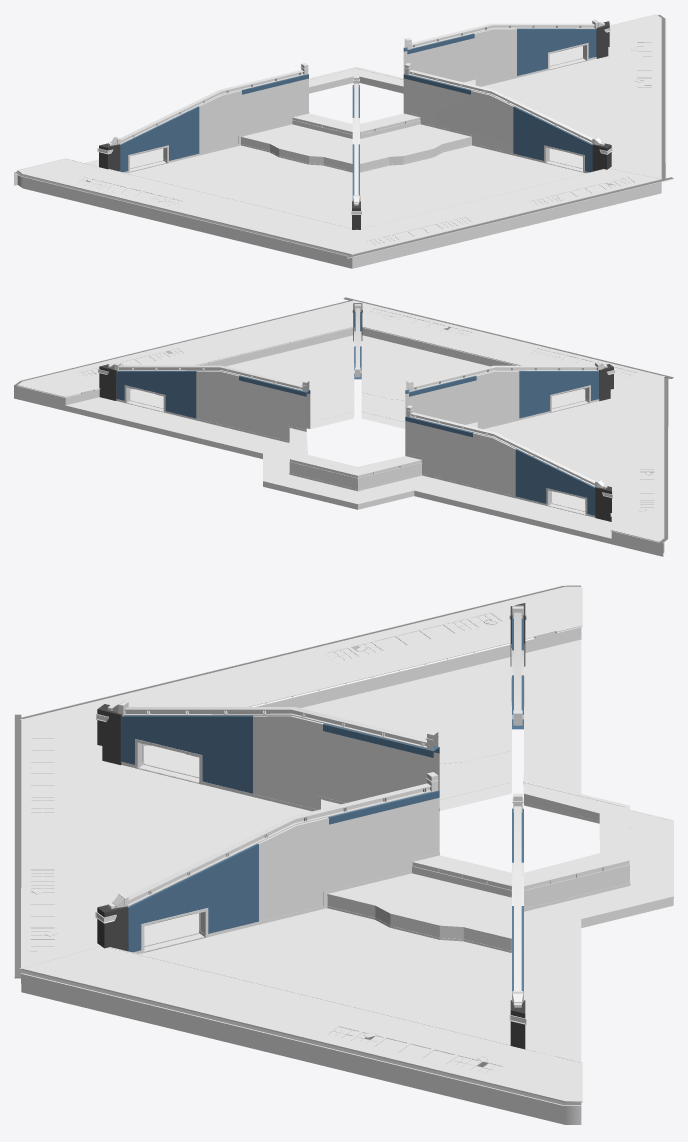
3 views of the same model, one above another, from view 1: azimuth 30°, elevation 25°; view 2: azimuth 150°, elevation 25°; view 3: azimuth 270°, elevation 25° (orthographic). The views are drawn at different scales.
Visible parts, largest first — view 1: SM_H_Building_FutureTech_Test_01_ExterWall_01; view 2: SM_H_Building_FutureTech_Test_01_ExterWall_01; view 3: SM_H_Building_FutureTech_Test_01_ExterWall_01.
Part boxes in pixels (x1,y1,x2,y2): SM_H_Building_FutureTech_Test_01_ExterWall_01: (14, 14, 673, 268); SM_H_Building_FutureTech_Test_01_ExterWall_01: (14, 297, 673, 556); SM_H_Building_FutureTech_Test_01_ExterWall_01: (14, 585, 673, 1124).
Size of the model in its own units: 2331 by 4350 by 445.
